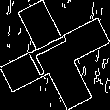L_NE: (26, 30, 84, 80)
